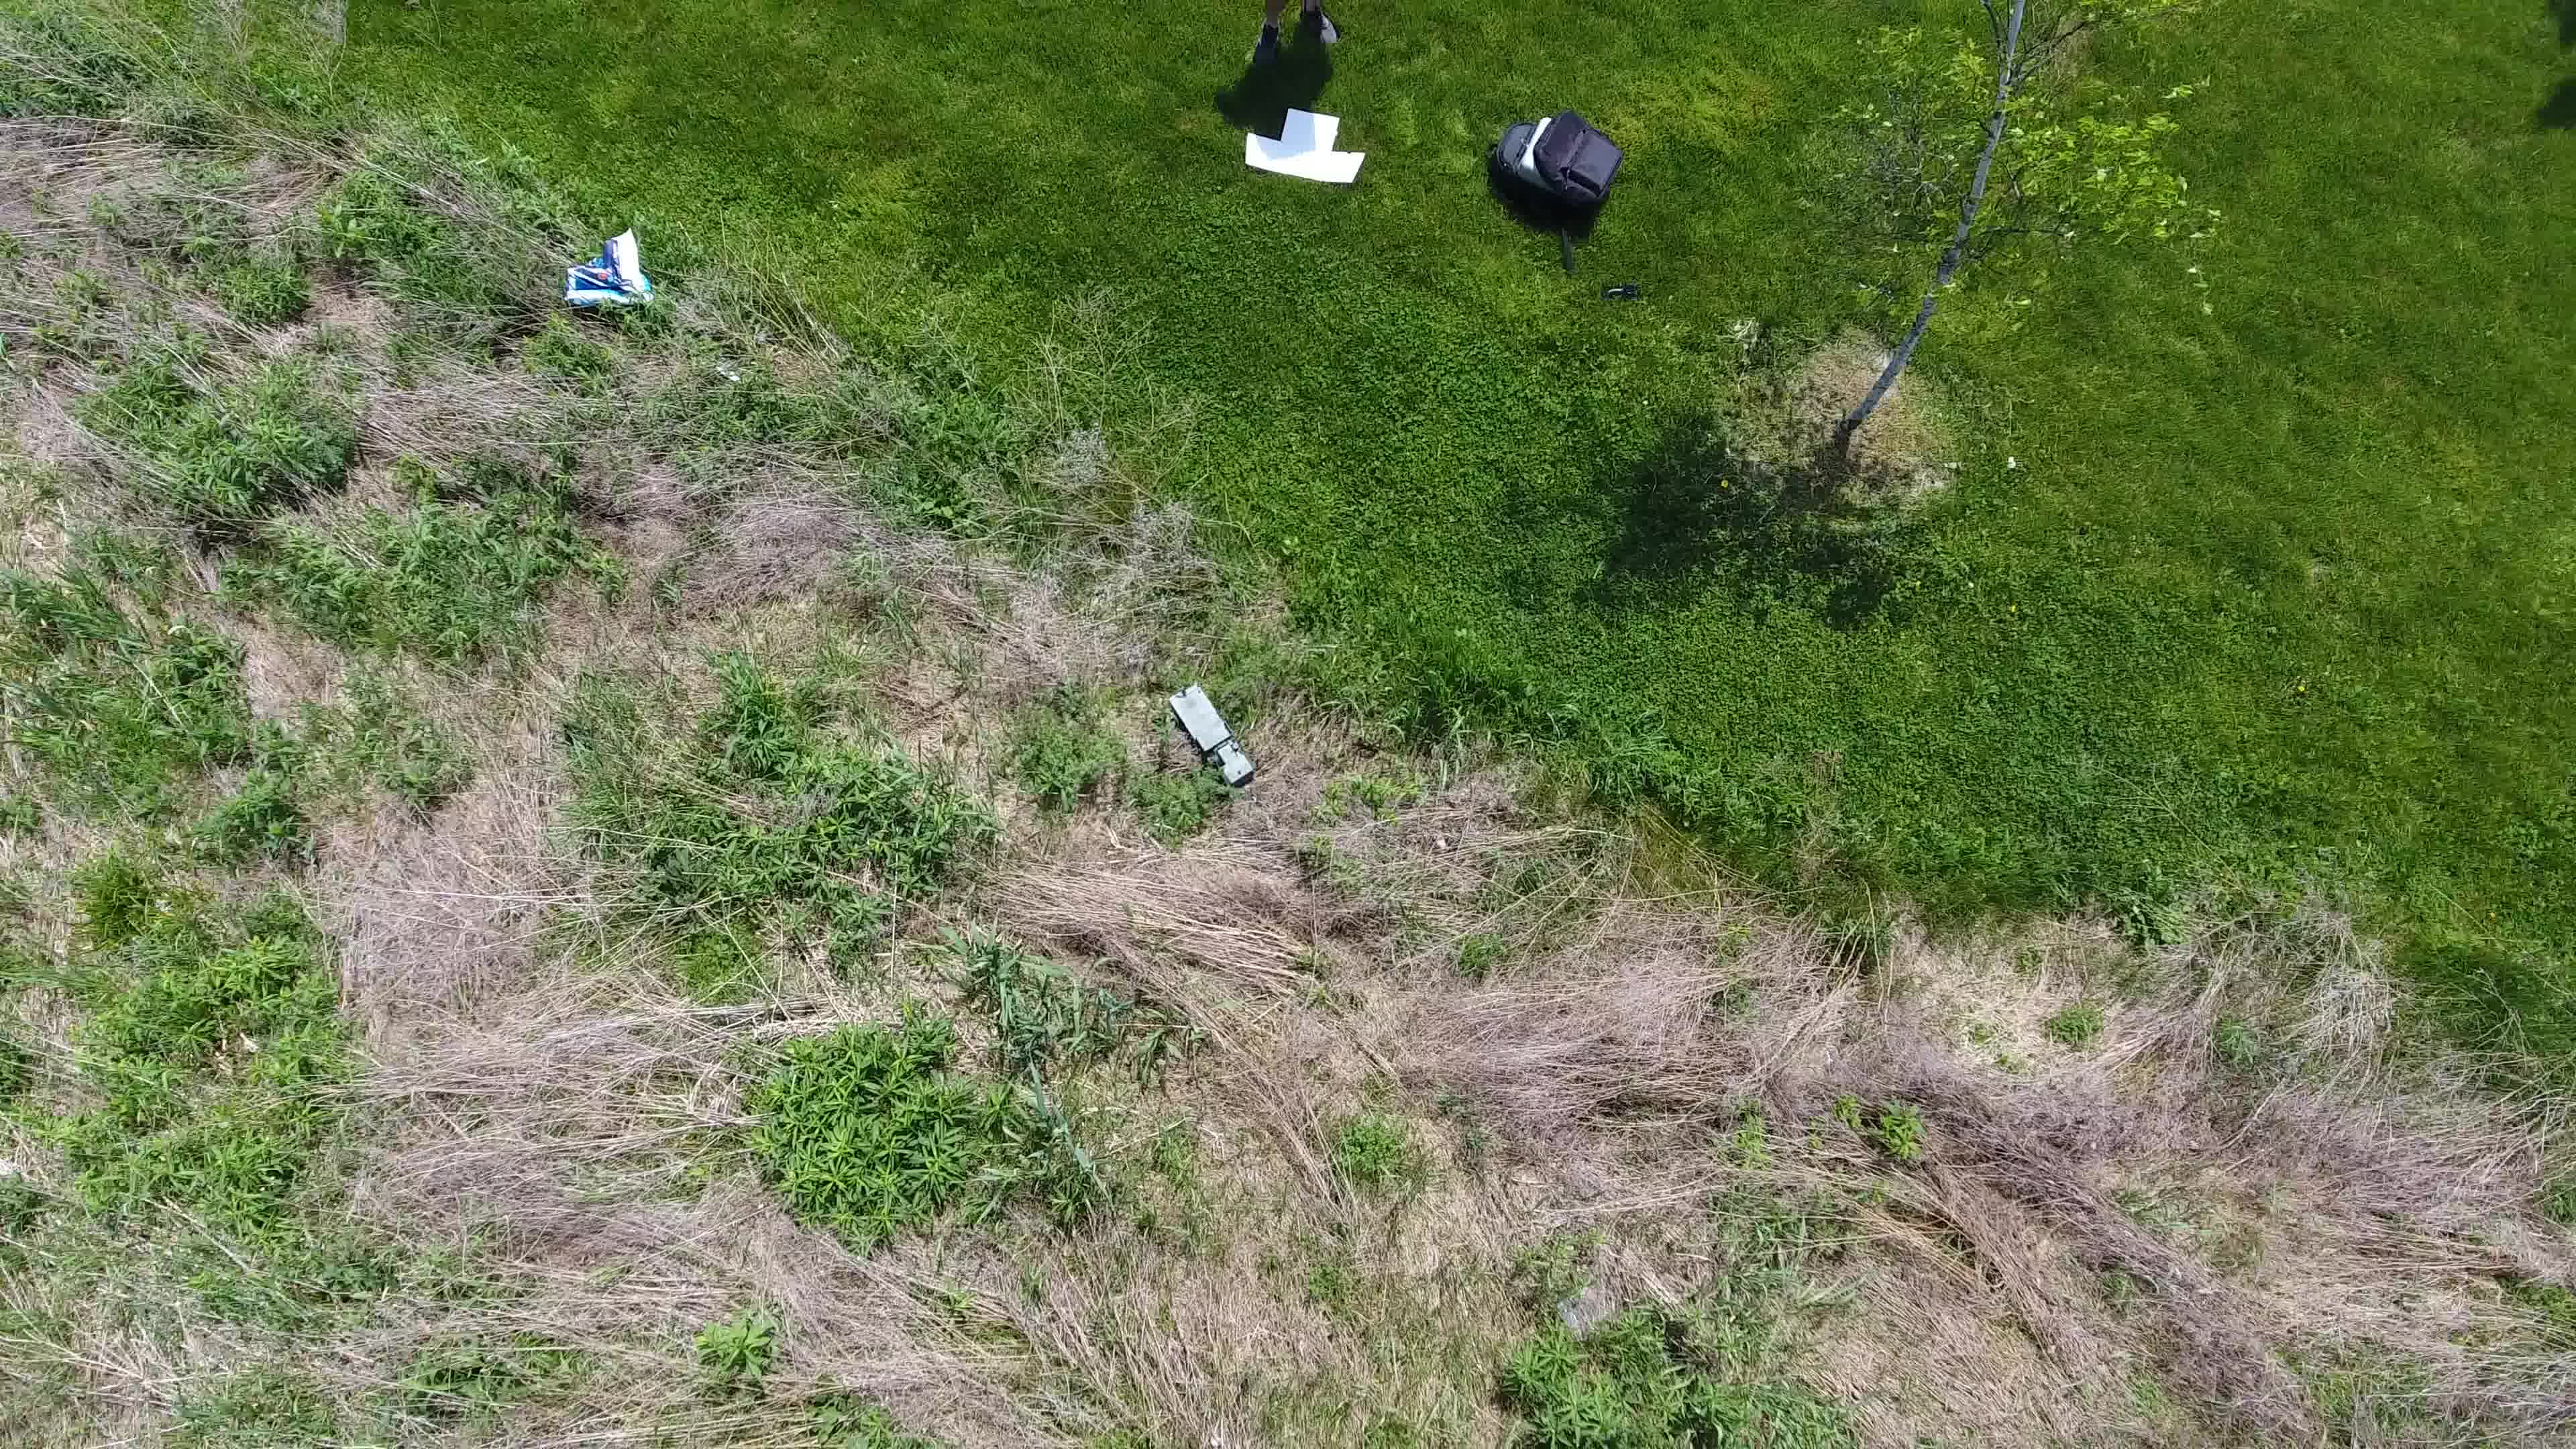transporter9: (1168, 681, 1254, 793)
